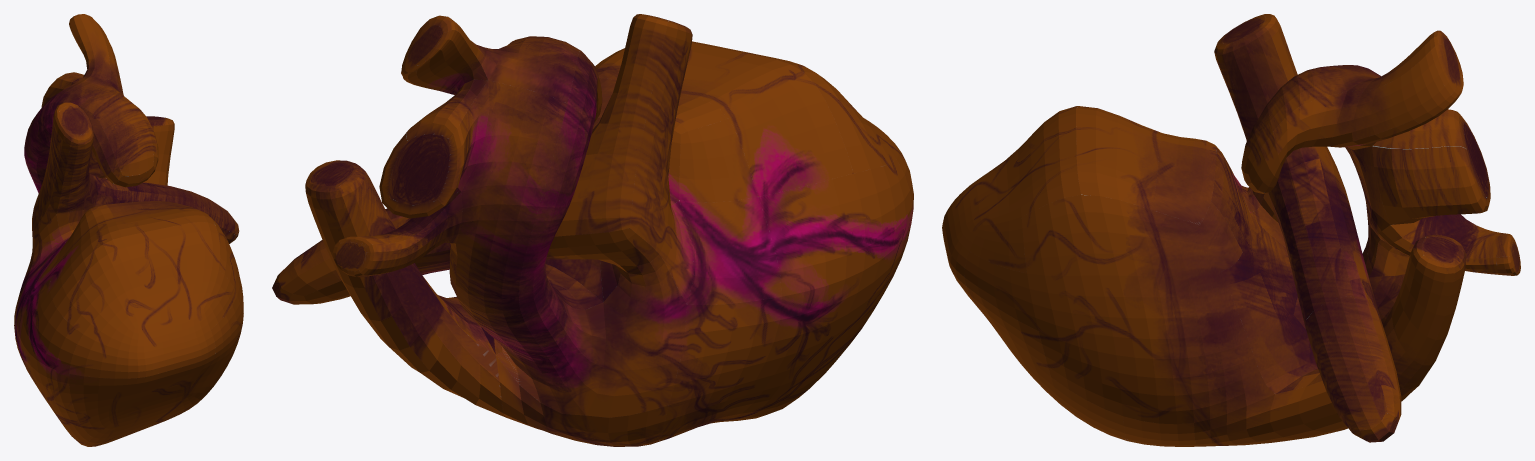
File: heart-stage_2.glb
The picture shows the model from 3 angles, left to right: view 1: azimuth 30°, elevation 25°; view 2: azimuth 150°, elevation 25°; view 3: azimuth 270°, elevation 25°; orthographic projection. The views are drawn at different scales.
Visible parts, largest first — view 1: HeartStage2; view 2: HeartStage2; view 3: HeartStage2.
Boxes of the visible parts, x1,y1,x2,y2 form: HeartStage2: [14, 14, 243, 446]; HeartStage2: [272, 14, 913, 446]; HeartStage2: [942, 14, 1520, 446].
Size of the model in its own units: 2.92 by 2.98 by 3.54.
1 material, 1 textured.
